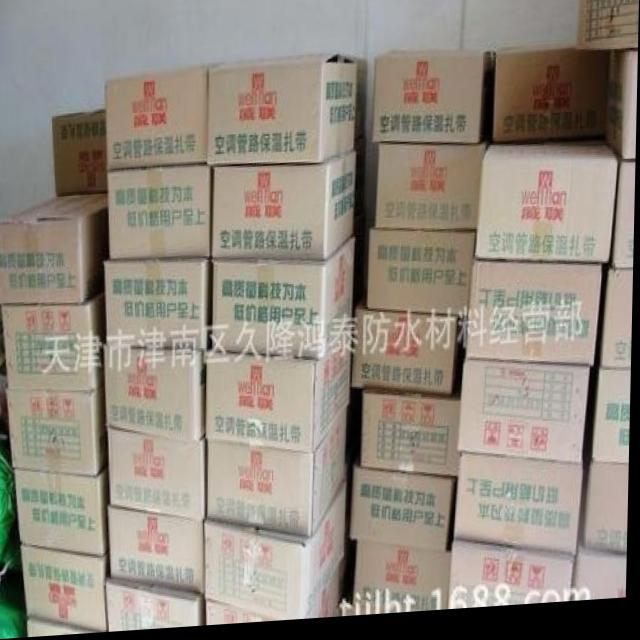box: (207, 482, 350, 625), (206, 328, 354, 458), (208, 413, 348, 542), (475, 151, 620, 272), (214, 242, 358, 362), (207, 59, 358, 167), (213, 154, 359, 264), (467, 268, 604, 374), (460, 366, 592, 470), (456, 460, 585, 562), (0, 195, 108, 306), (372, 56, 494, 151), (492, 51, 610, 149), (106, 67, 216, 172), (4, 295, 107, 393), (108, 167, 212, 262), (376, 149, 487, 236), (105, 349, 207, 443), (9, 385, 110, 479), (105, 261, 210, 351), (109, 429, 208, 524), (353, 315, 459, 402), (368, 236, 475, 322), (110, 506, 206, 599), (351, 473, 454, 558), (16, 467, 111, 559), (452, 546, 576, 616), (363, 395, 462, 482), (22, 544, 108, 634), (356, 547, 453, 621), (108, 581, 206, 634), (53, 111, 108, 196), (584, 471, 631, 561), (594, 377, 633, 473), (605, 58, 638, 170), (576, 0, 639, 58), (602, 276, 635, 379), (575, 556, 630, 609), (613, 171, 636, 276)
